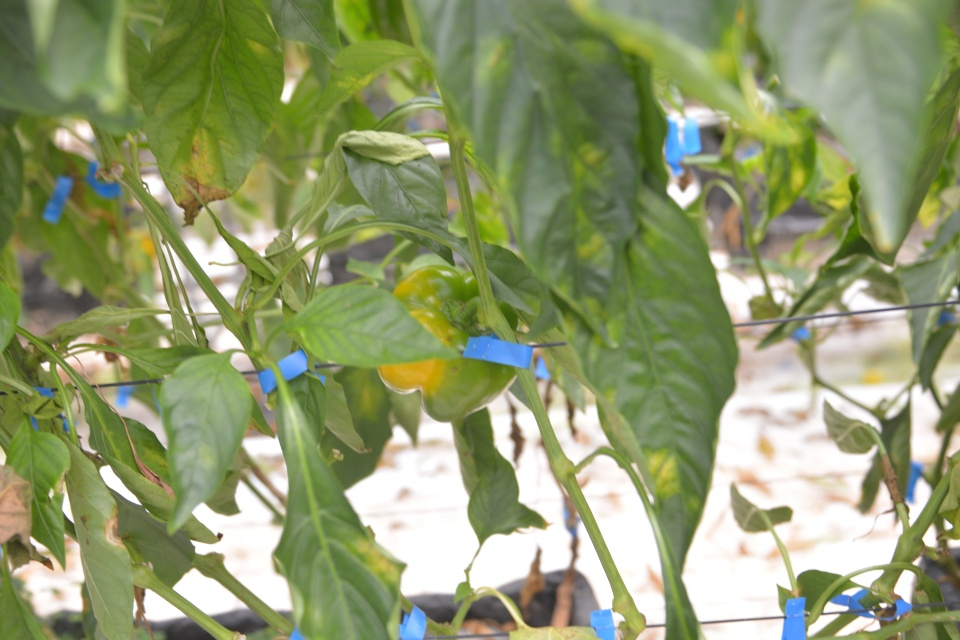fruit: (372, 263, 524, 424)
pedicle: (438, 297, 493, 336)
